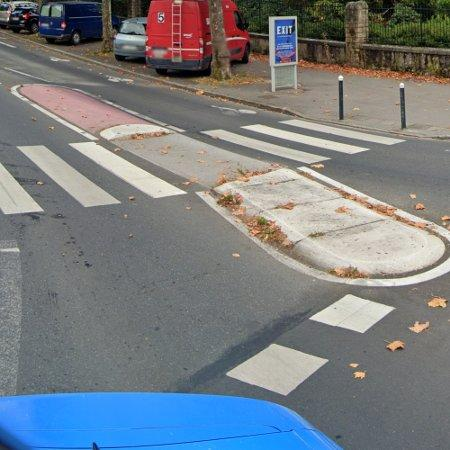crosswalks: (0, 117, 406, 219)
